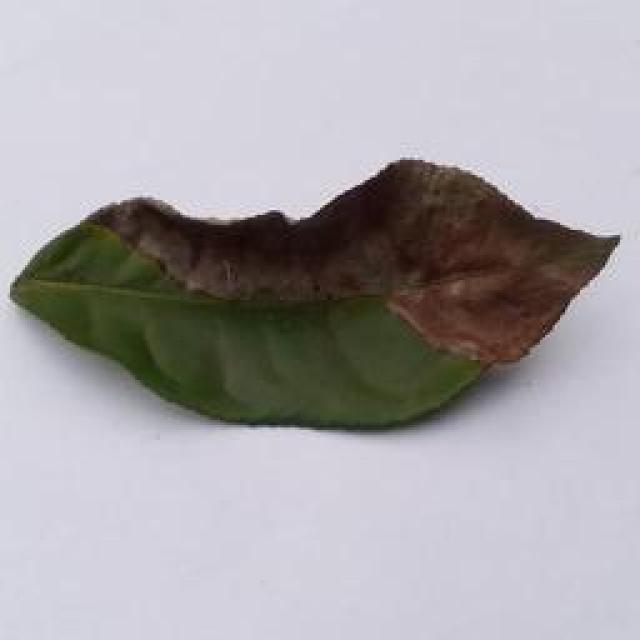Brown Blight: (10, 154, 628, 444)
